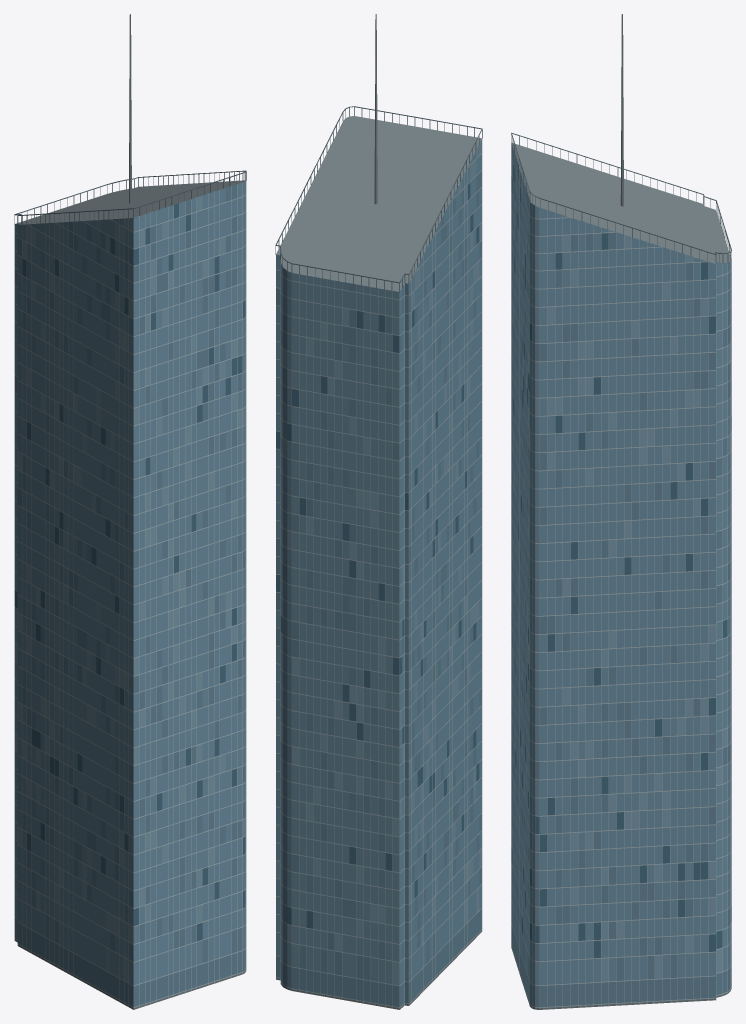
The model's file is tour-incity-near.glb.
The picture shows the model from 3 angles, left to right: view 1: azimuth 30°, elevation 25°; view 2: azimuth 150°, elevation 25°; view 3: azimuth 270°, elevation 25°; orthographic projection.
Visible parts, largest first — view 1: tour-incity-0-glass, tour-incity-0-frame, tour-incity-0-glassShade, tour-incity-0-glassPale, tour-incity-0-glow, tour-incity-0-roof, tour-incity-0-light; view 2: tour-incity-0-glass, tour-incity-0-frame, tour-incity-0-roof, tour-incity-0-glassShade, tour-incity-0-glassPale, tour-incity-0-glow, tour-incity-0-light; view 3: tour-incity-0-glass, tour-incity-0-frame, tour-incity-0-glassShade, tour-incity-0-roof, tour-incity-0-glassPale, tour-incity-0-glow, tour-incity-0-light.
Boxes of the visible parts, box(x1,y1,x2,y2) form: tour-incity-0-glass: box(14, 181, 246, 985); tour-incity-0-frame: box(14, 181, 246, 1009); tour-incity-0-glassShade: box(14, 181, 246, 1006); tour-incity-0-glassPale: box(14, 195, 245, 982); tour-incity-0-glow: box(14, 203, 245, 941); tour-incity-0-roof: box(14, 14, 246, 1009); tour-incity-0-light: box(14, 170, 246, 224); tour-incity-0-glass: box(276, 151, 481, 985); tour-incity-0-frame: box(276, 139, 482, 1009); tour-incity-0-roof: box(276, 14, 481, 1009); tour-incity-0-glassShade: box(276, 171, 481, 1007); tour-incity-0-glassPale: box(276, 139, 481, 985); tour-incity-0-glow: box(276, 182, 479, 928); tour-incity-0-light: box(275, 106, 482, 292); tour-incity-0-glass: box(511, 143, 731, 985); tour-incity-0-frame: box(511, 157, 731, 1009); tour-incity-0-glassShade: box(511, 167, 731, 1007); tour-incity-0-roof: box(511, 14, 731, 1009); tour-incity-0-glassPale: box(511, 161, 731, 981); tour-incity-0-glow: box(511, 164, 731, 958); tour-incity-0-light: box(511, 132, 731, 263).
Size of the model in its own units: 32.62 by 200 by 41.74.
